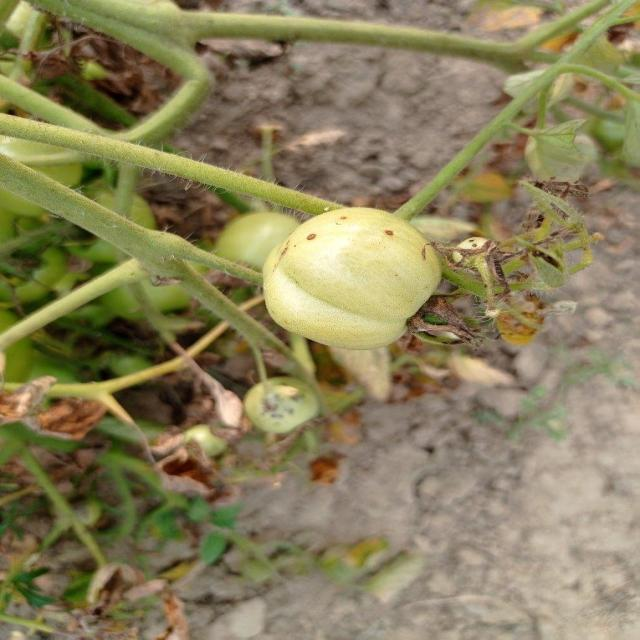Unripe: (263, 207, 443, 350)
